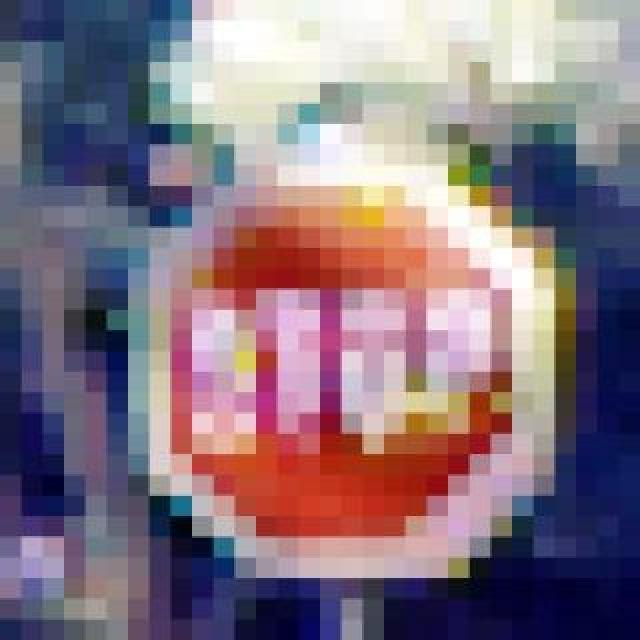stop: (108, 102, 556, 578)
